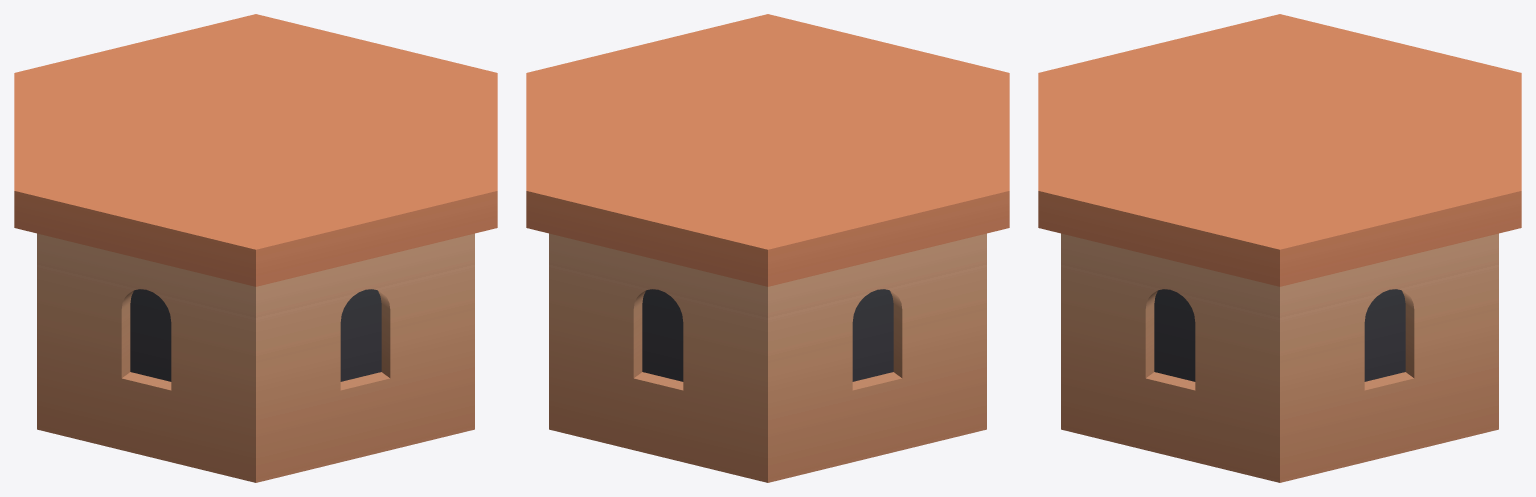
File: p-castle-tower-hexagon-mid.glb
3 renders of one model, left to right at view 1: azimuth 30°, elevation 25°; view 2: azimuth 150°, elevation 25°; view 3: azimuth 270°, elevation 25°, orthographic.
Parts seen in each view (by area): view 1: tower-hexagon-mid; view 2: tower-hexagon-mid; view 3: tower-hexagon-mid.
Part boxes in pixels (x1,y1,x2,y2): tower-hexagon-mid: (14,14,497,482); tower-hexagon-mid: (526,14,1009,482); tower-hexagon-mid: (1038,14,1521,482).
Bounding box in the file's own units: 0.9524 × 0.46 × 0.8249.
1 material, 1 textured.
